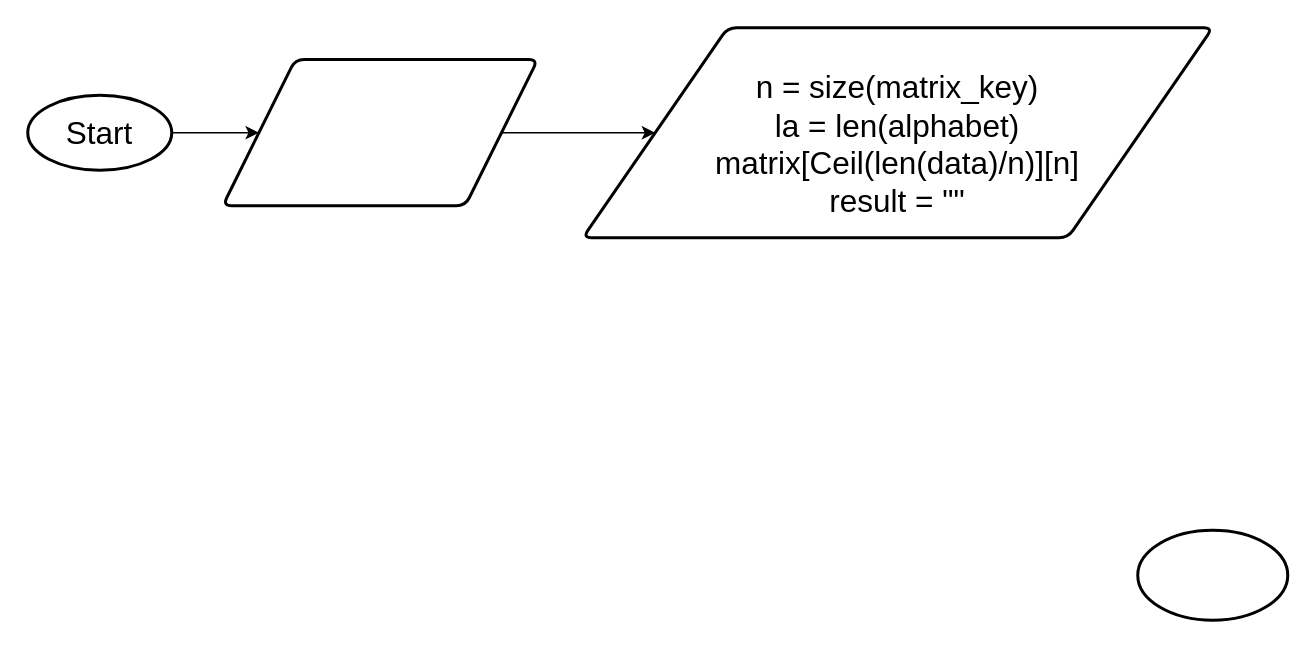
This 1314x647 diagram has some shape labels left out. The centre of each missing label's shape, as x and y in pixels:
"data alphabet matrix_key" belongs at [379,132].
"End" belongs at [1212,574].
